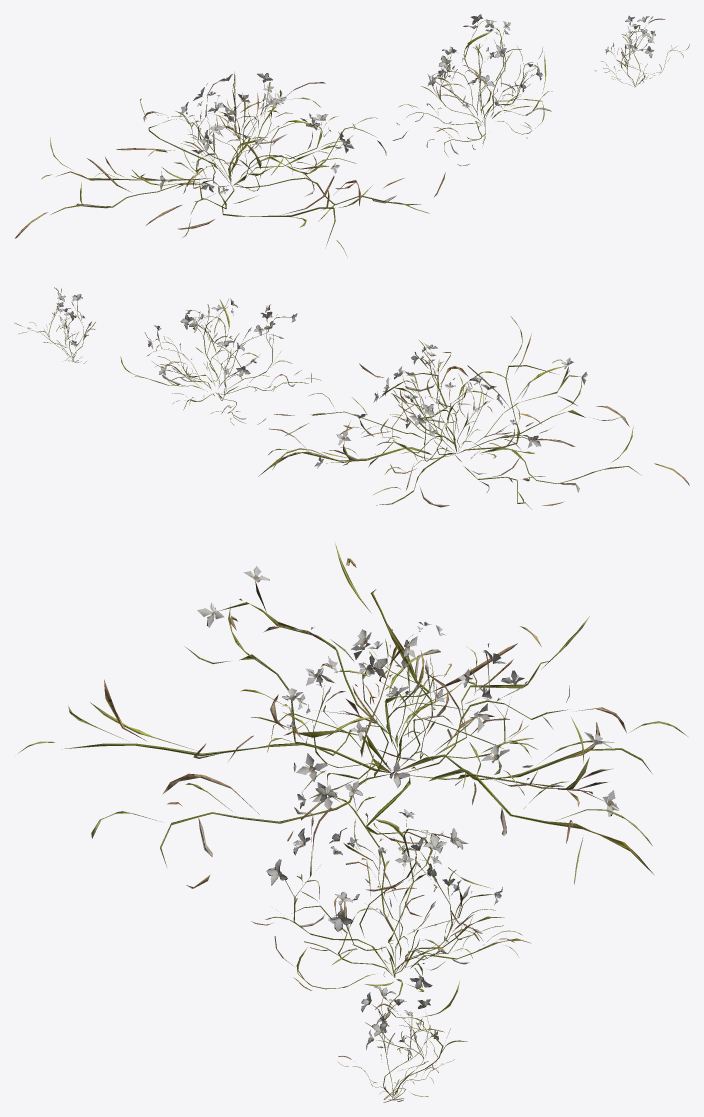
The model's file is flower_heliophila.glb.
3 views of the same model, one above another, from view 1: azimuth 30°, elevation 25°; view 2: azimuth 150°, elevation 25°; view 3: azimuth 270°, elevation 25° (orthographic). The views are drawn at different scales.
Parts seen in each view (by area): view 1: flower_heliophila_large, flower_heliophila_medium, flower_heliophila_small; view 2: flower_heliophila_large, flower_heliophila_medium, flower_heliophila_small; view 3: flower_heliophila_large, flower_heliophila_medium, flower_heliophila_small.
Part boxes in pixels (x1,y1,x2,y2): flower_heliophila_large: (14,71,445,255); flower_heliophila_medium: (396,14,552,166); flower_heliophila_small: (595,16,689,87); flower_heliophila_large: (258,316,689,509); flower_heliophila_medium: (120,298,320,425); flower_heliophila_small: (14,287,95,363); flower_heliophila_large: (19,543,687,916); flower_heliophila_medium: (251,780,530,1028); flower_heliophila_small: (337,986,467,1102).
Bounding box in the file's own units: 2.75 × 0.3873 × 1.41.
Materials: 1 (1 with a texture image).
